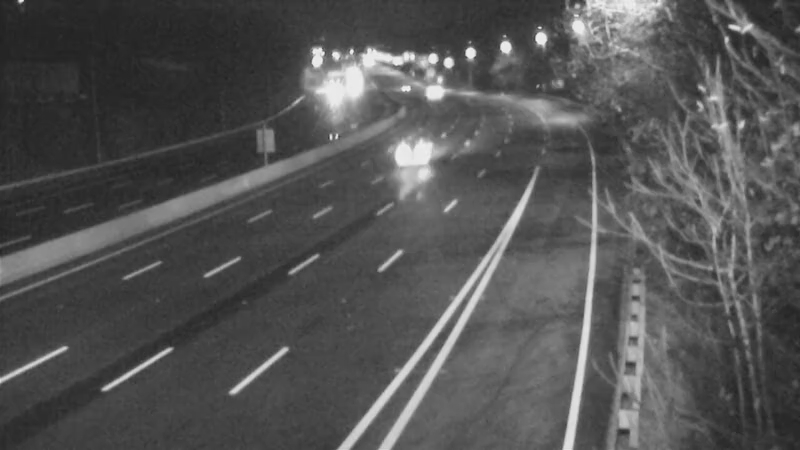vehicle: (368, 113, 448, 193), (409, 65, 459, 115), (306, 63, 356, 113)
